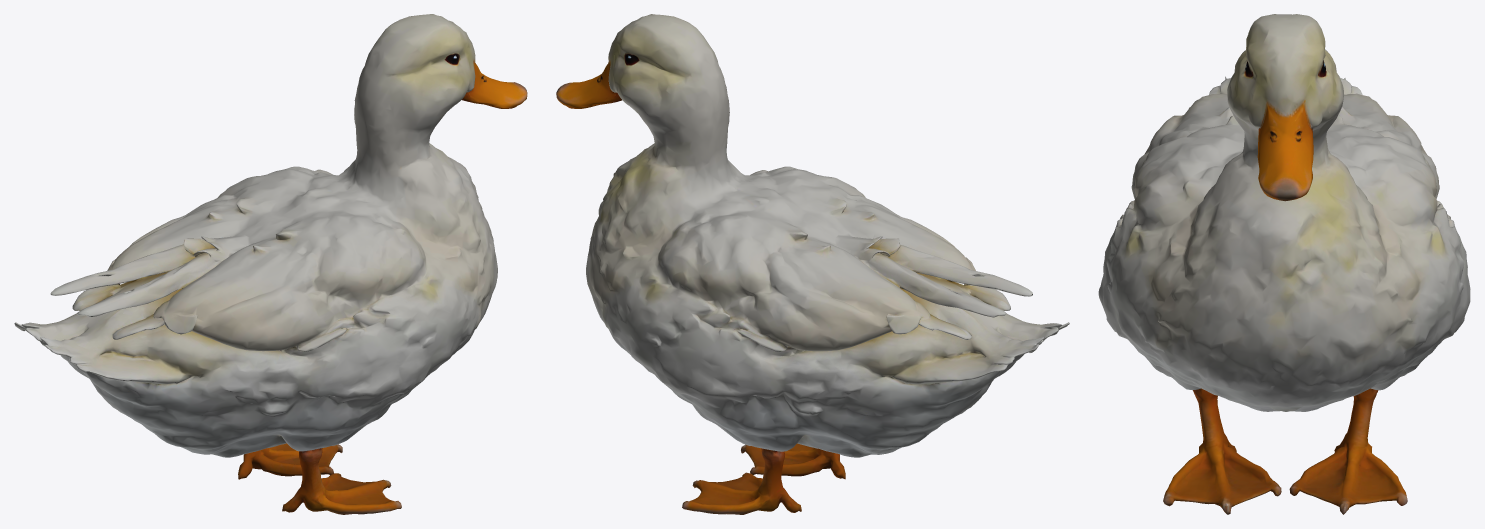
File: duck-standing.glb
3 views of the same model, side by side, from view 1: azimuth 30°, elevation 25°; view 2: azimuth 150°, elevation 25°; view 3: azimuth 270°, elevation 25° (orthographic). The views are drawn at different scales.
Visible parts, largest first — view 1: tripo_node_2f9c4314-a4f3-416e-82bf-ad8976b910c3; view 2: tripo_node_2f9c4314-a4f3-416e-82bf-ad8976b910c3; view 3: tripo_node_2f9c4314-a4f3-416e-82bf-ad8976b910c3.
Part boxes in pixels (x1,y1,x2,y2): tripo_node_2f9c4314-a4f3-416e-82bf-ad8976b910c3: (14,14,527,514); tripo_node_2f9c4314-a4f3-416e-82bf-ad8976b910c3: (556,14,1069,514); tripo_node_2f9c4314-a4f3-416e-82bf-ad8976b910c3: (1098,14,1470,514).
Bounding box in the file's own units: 0.5352 × 0.45 × 0.2875.
1 material, 1 textured.
